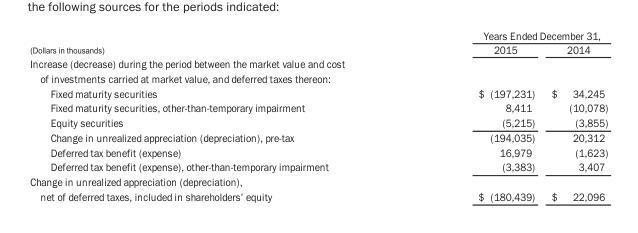table: (29, 29, 607, 202)
table column: (29, 29, 402, 202), (402, 29, 542, 202), (542, 29, 607, 202)
table column header: (29, 29, 607, 56)
table projected row header: (29, 70, 607, 85), (29, 173, 607, 188), (29, 56, 607, 70)
table row: (29, 70, 607, 85), (29, 85, 607, 100), (29, 114, 607, 129), (29, 129, 607, 144), (29, 144, 607, 159), (29, 173, 607, 188), (29, 42, 607, 56), (29, 56, 607, 70), (29, 100, 607, 114), (29, 159, 607, 173), (29, 188, 607, 202), (29, 29, 607, 42)
table spanning cell: (29, 29, 402, 56), (402, 29, 607, 42)
